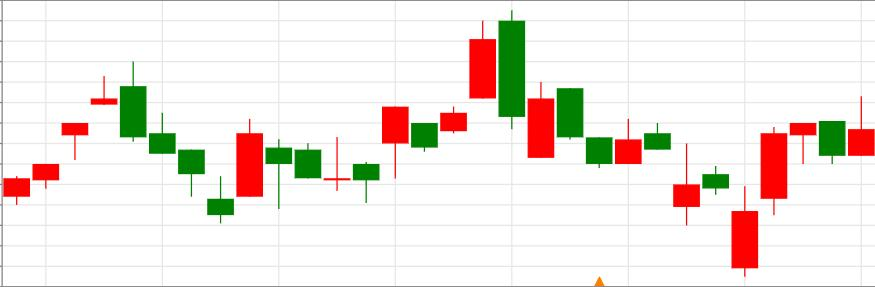bearish_engulfing_fall: (352, 9, 525, 203)
